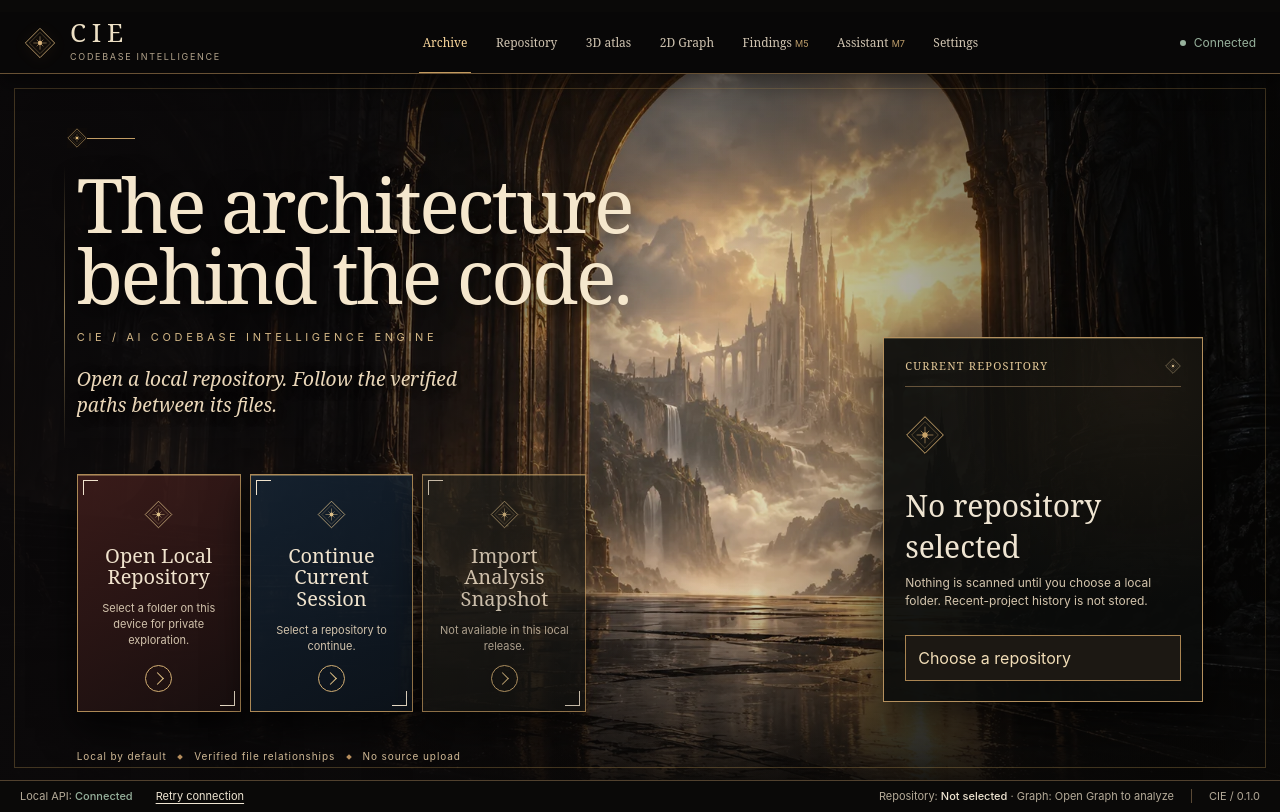
renders an honest archive landing with a real navigation path and deferred features
Expected: the heading "No repository selected" is shown, x1=905 y1=485 x2=1101 y2=567
Expected: the button "Findings M5" is enabled, x1=738 y1=12 x2=813 y2=73
What coordinates should you click on to do the following:
click the button "3D atlas"
I would click on:
 (608, 42)
Its box is x1=582 y1=12 x2=635 y2=73.
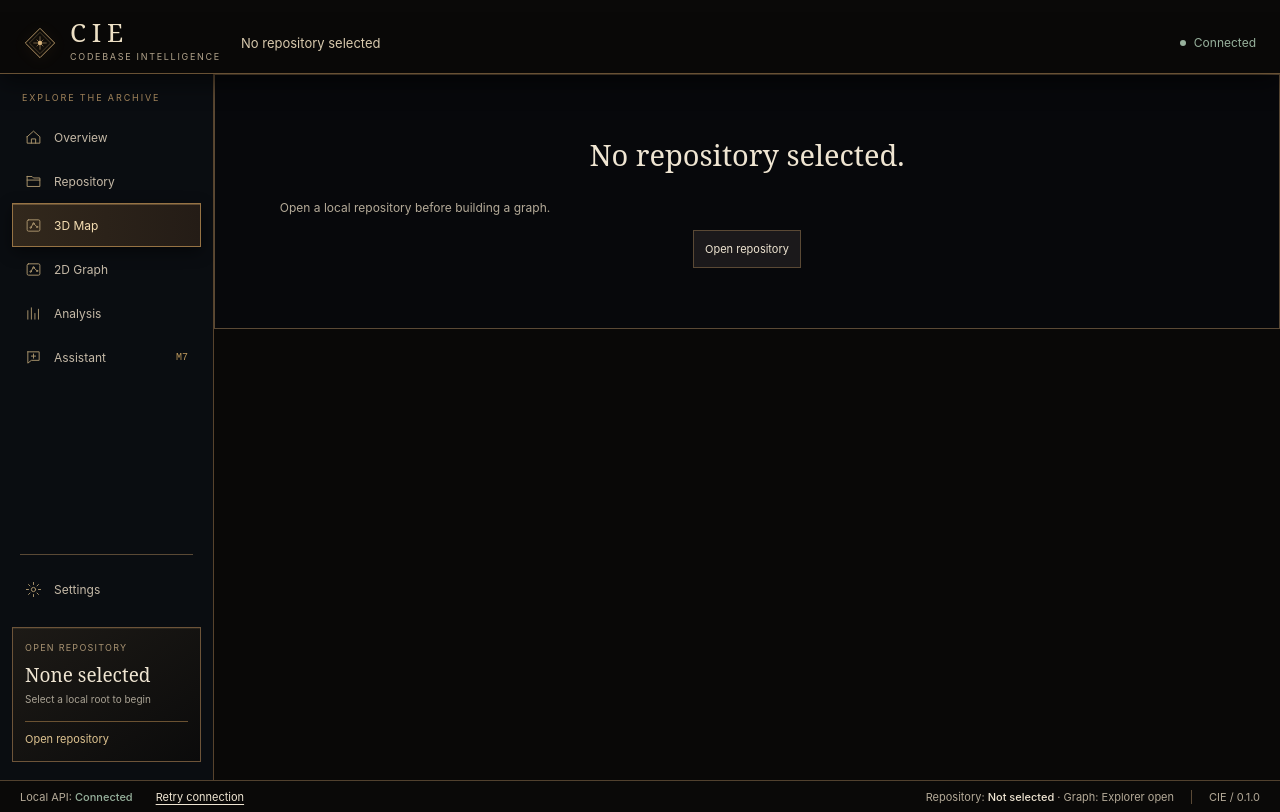
Result: the heading "No repository selected." is shown at x1=589 y1=135 x2=905 y2=174
